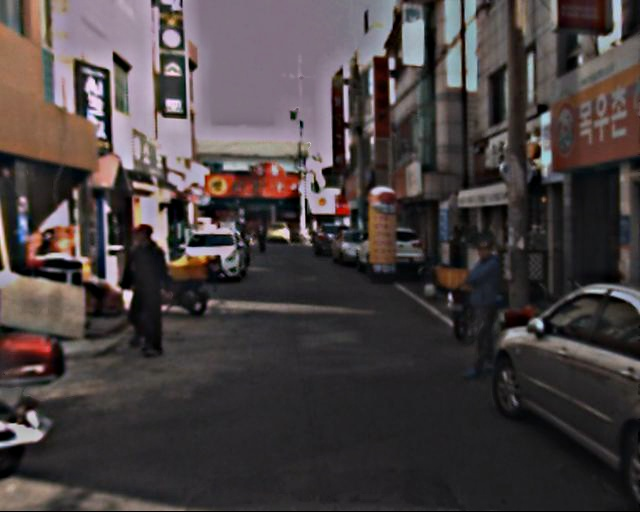person: (118, 225, 184, 360), (457, 233, 517, 378), (251, 214, 271, 256)
